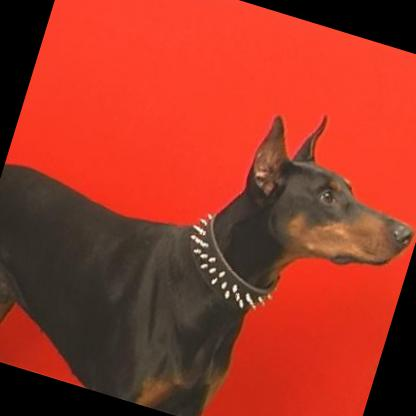Doberman: (0, 27, 416, 416)
